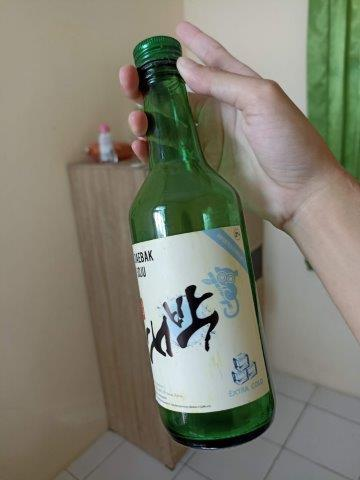botolkaca: (127, 36, 277, 451)
